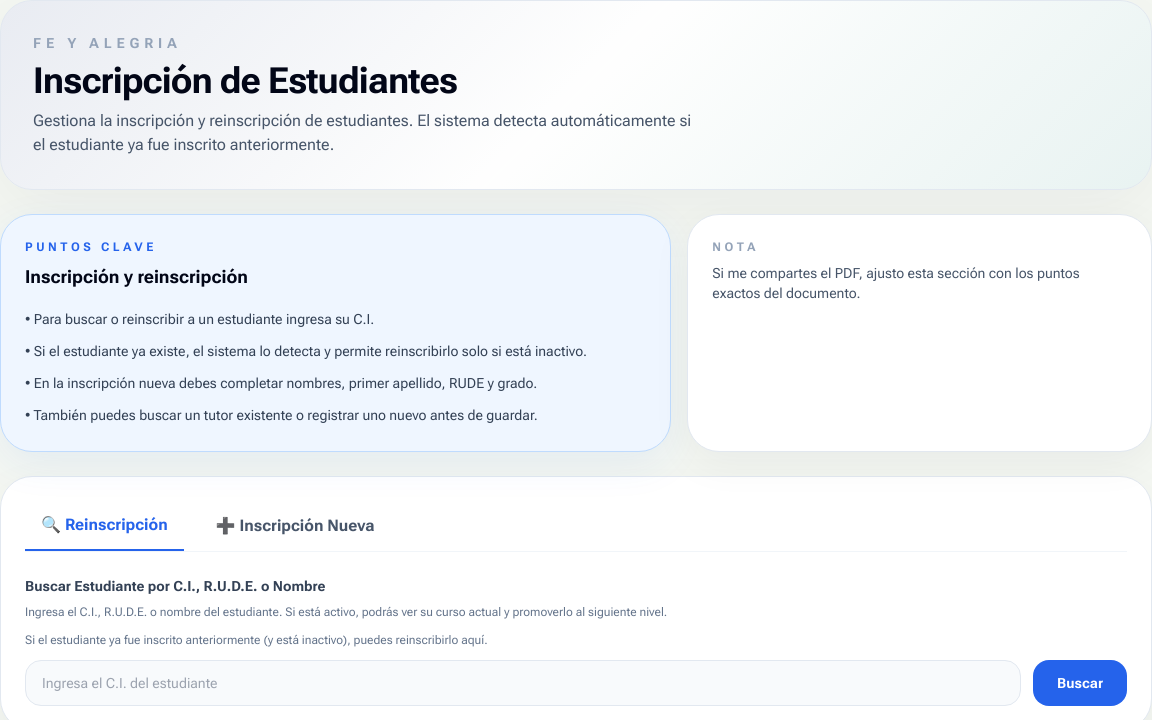
Test: remaining pages › muestra las opciones de género del formulario de inscripción
Click the button "➕ Inscripción Nueva".
click(295, 526)  # box [200,501,391,551]
(page scrolled)
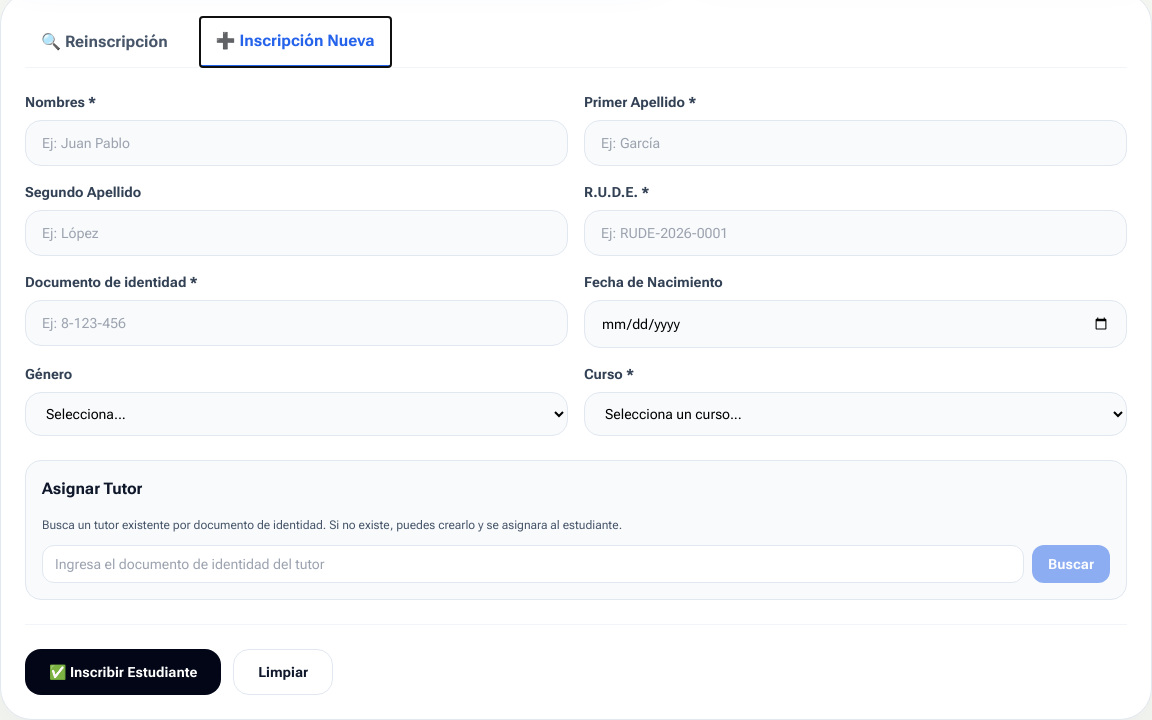
Now the dropdown named "genero" below "Género" is shown, box [25,392,568,436]
